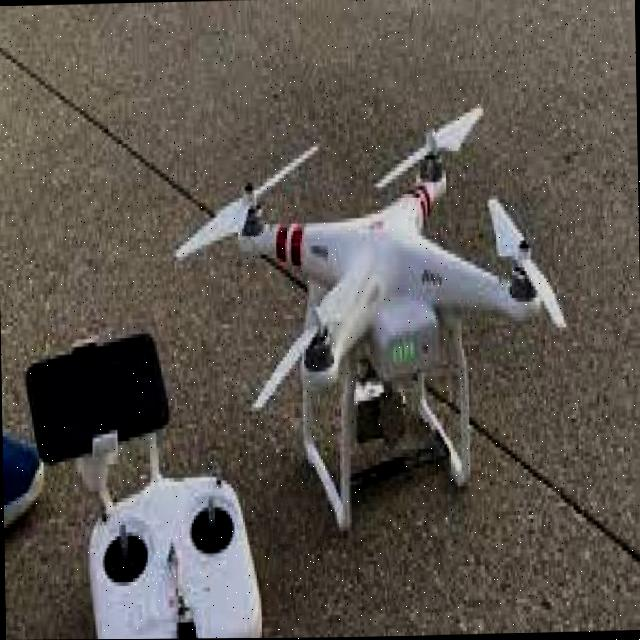drone: (165, 102, 576, 521)
